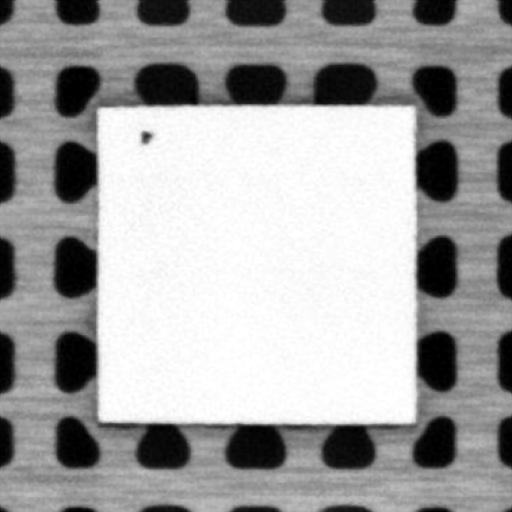DIE_INK: (137, 127, 154, 145)
